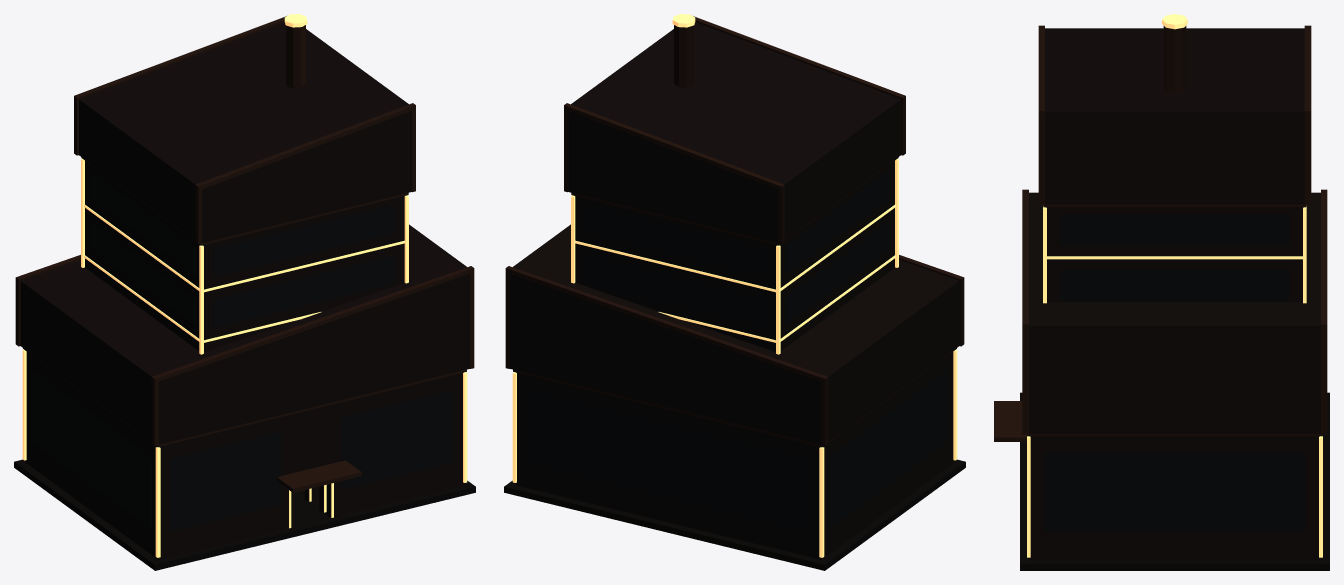
File: shaddai_realm_buildings_volcano_v01.glb
3 views of the same model, side by side, from view 1: azimuth 30°, elevation 25°; view 2: azimuth 150°, elevation 25°; view 3: azimuth 270°, elevation 25° (orthographic). The views are drawn at different scales.
Visible parts, largest first — view 1: shaddai_bld_volcano_hall, shaddai_bld_volcano_tower; view 2: shaddai_bld_volcano_hall, shaddai_bld_volcano_tower; view 3: shaddai_bld_volcano_hall, shaddai_bld_volcano_tower.
Boxes of the visible parts, left/top/right/bottom form: shaddai_bld_volcano_hall: left=14, top=224, right=475, bottom=570; shaddai_bld_volcano_tower: left=74, top=14, right=415, bottom=512; shaddai_bld_volcano_hall: left=504, top=224, right=965, bottom=570; shaddai_bld_volcano_tower: left=564, top=14, right=905, bottom=354; shaddai_bld_volcano_hall: left=994, top=189, right=1329, bottom=570; shaddai_bld_volcano_tower: left=1010, top=14, right=1311, bottom=441.
Size of the model in its own units: 25.2 by 33.7 by 20.8.
